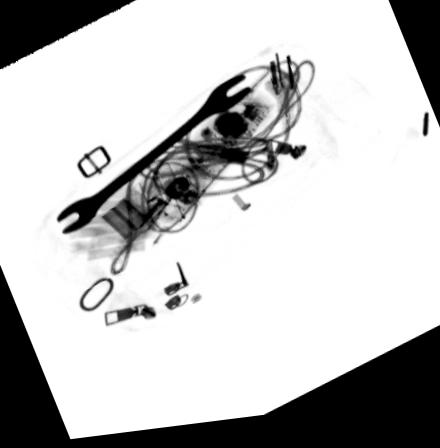Wrench: (53, 78, 253, 235)
